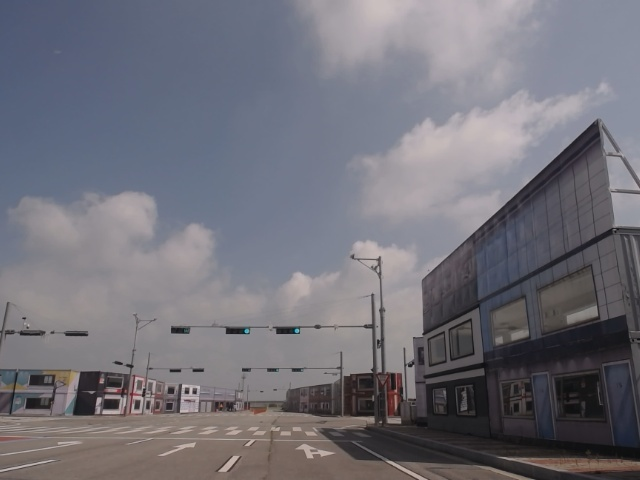straight_green_4: (225, 325, 251, 336), (276, 327, 301, 334)
